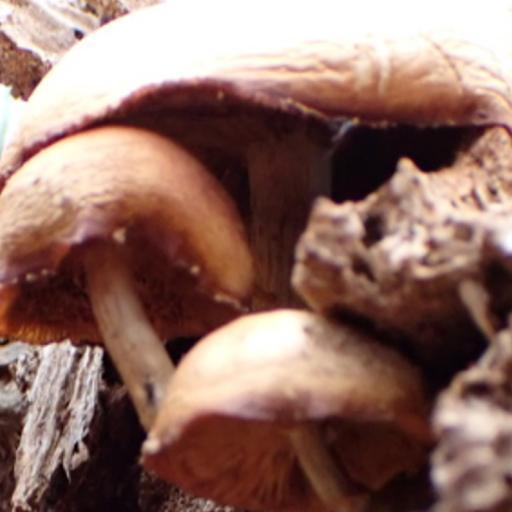mushroom: (7, 5, 507, 499)
